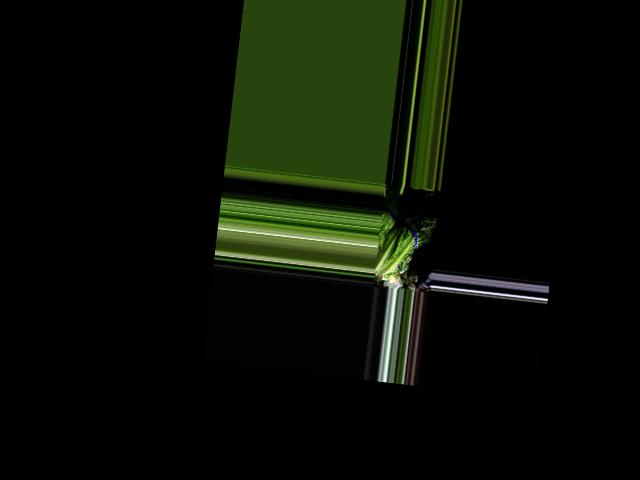lettuce: (374, 207, 433, 277)
